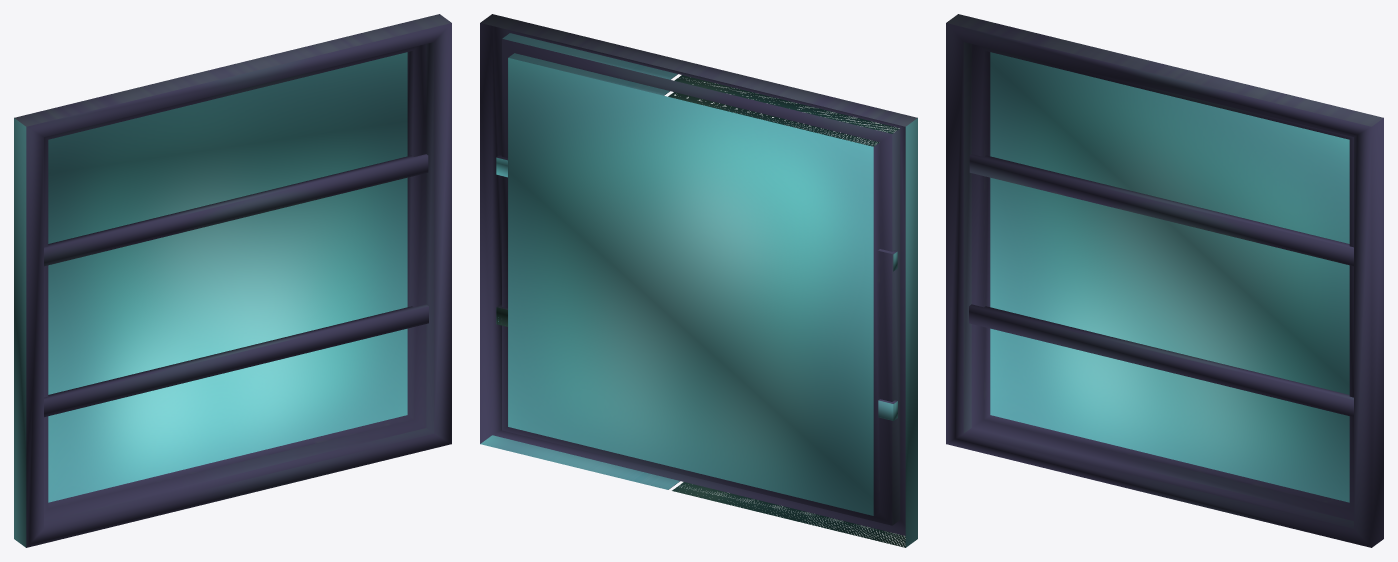
Rendered from Janela.fbx.
3 views of the same model, side by side, from view 1: azimuth 30°, elevation 25°; view 2: azimuth 150°, elevation 25°; view 3: azimuth 330°, elevation 25° (orthographic).
Visible parts, largest first — view 1: Janela; view 2: Janela; view 3: Janela.
Boxes of the visible parts, <box> form: Janela: <box>14,14,451,547</box>; Janela: <box>480,14,917,547</box>; Janela: <box>946,14,1383,547</box>.
Bounding box in the file's own units: 206 × 11.93 × 195.
